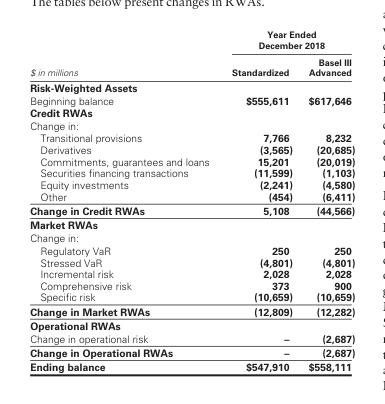table: (29, 28, 354, 372)
table column: (29, 28, 219, 372), (219, 28, 299, 372), (299, 28, 354, 372)
table column header: (29, 28, 354, 79)
table projected row header: (29, 79, 354, 93), (29, 118, 354, 131), (29, 217, 354, 230), (29, 230, 354, 243), (29, 318, 354, 331), (29, 106, 354, 118)
table row: (29, 53, 354, 79), (29, 28, 354, 53), (29, 303, 354, 318), (29, 79, 354, 93), (29, 203, 354, 217), (29, 331, 354, 345), (29, 345, 354, 359), (29, 93, 354, 106), (29, 118, 354, 131), (29, 190, 354, 203), (29, 217, 354, 230), (29, 230, 354, 243), (29, 243, 354, 256), (29, 290, 354, 303), (29, 318, 354, 331), (29, 359, 354, 372), (29, 106, 354, 118), (29, 131, 354, 143), (29, 143, 354, 155), (29, 166, 354, 178), (29, 178, 354, 190), (29, 267, 354, 279), (29, 155, 354, 166), (29, 256, 354, 267), (29, 279, 354, 290)
table spanning cell: (29, 28, 219, 79), (219, 28, 354, 53)
